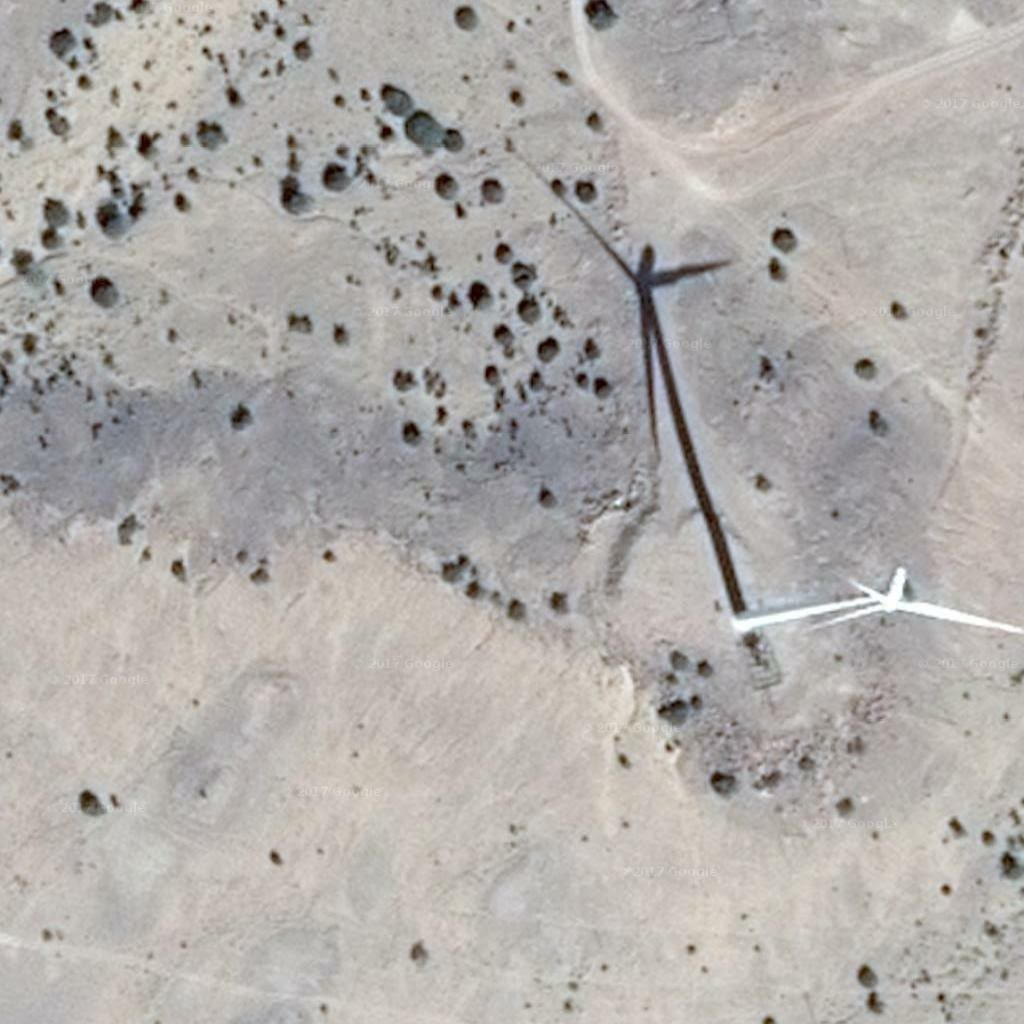Windmill: (520, 148, 751, 609)
